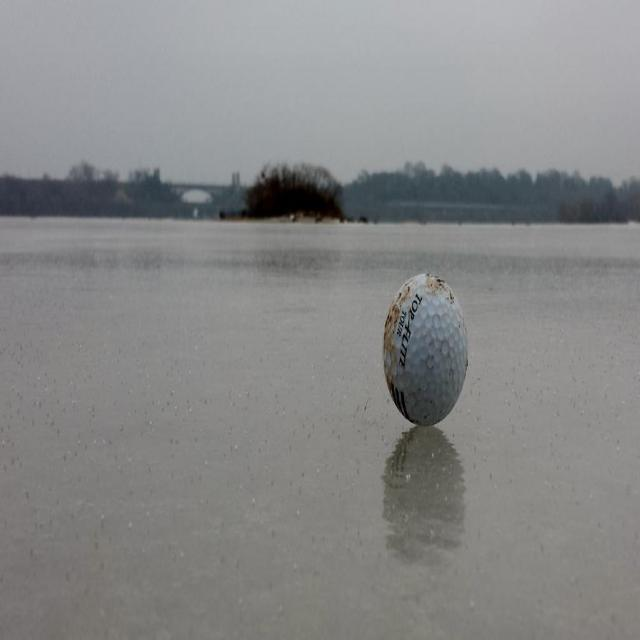GolfBall: (380, 267, 470, 426)
